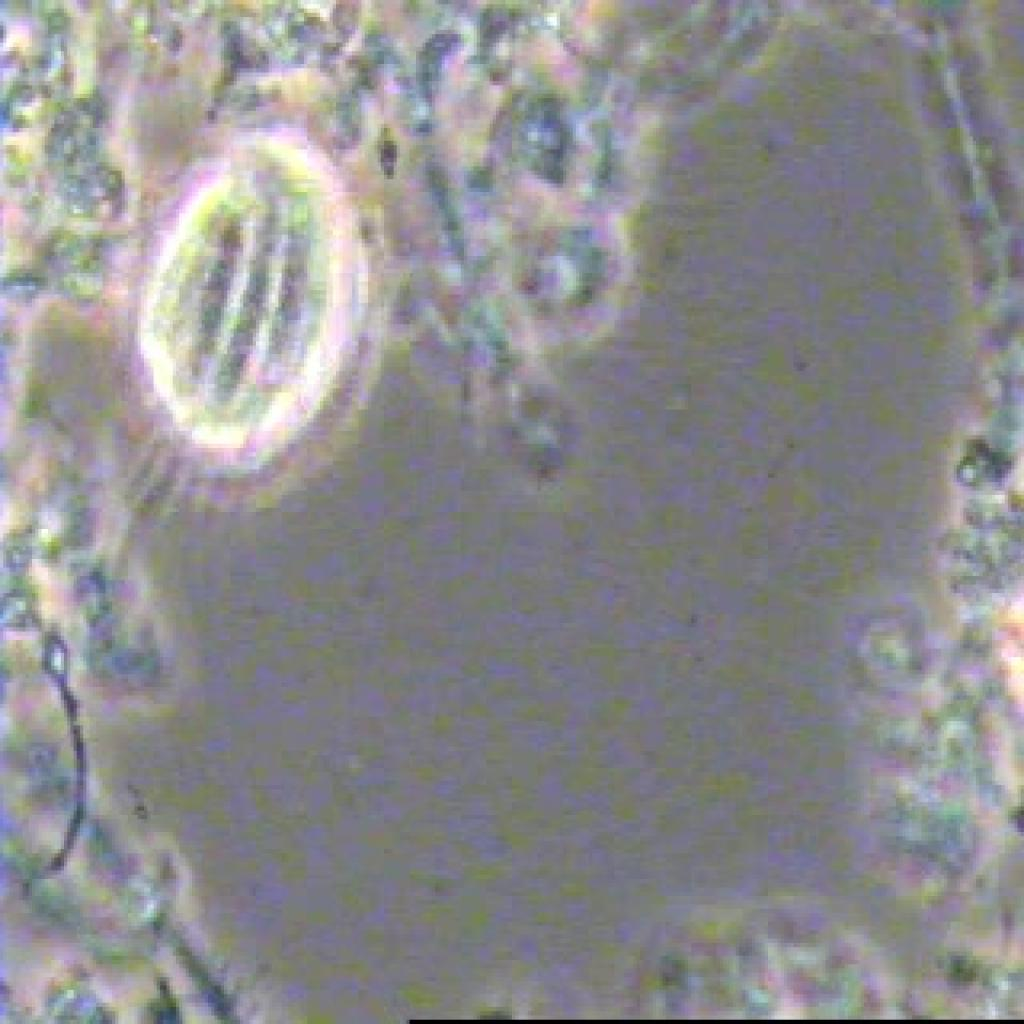Aspidisca: (102, 111, 394, 576)
